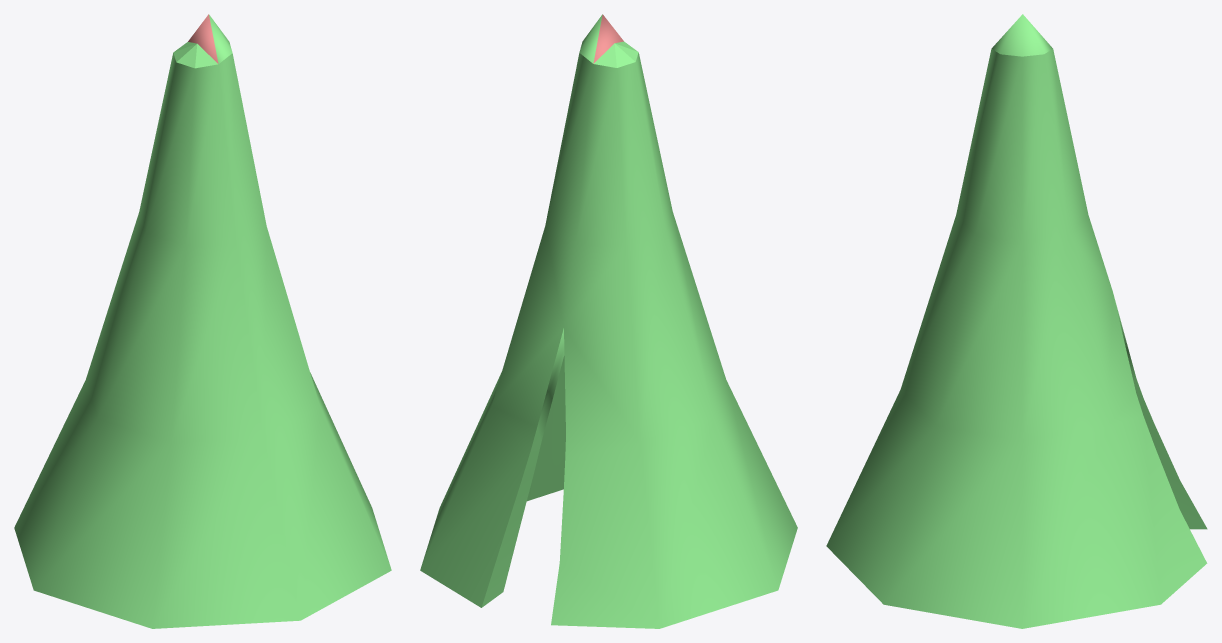
File: PriMT_port_tent01.gltf
The picture shows the model from 3 angles, left to right: view 1: azimuth 30°, elevation 25°; view 2: azimuth 150°, elevation 25°; view 3: azimuth 270°, elevation 25°; orthographic projection.
Parts seen in each view (by area): view 1: PriMT_port_tent01; view 2: PriMT_port_tent01; view 3: PriMT_port_tent01.
Boxes of the visible parts, x1,y1,x2,y2 form: PriMT_port_tent01: [14, 14, 391, 628]; PriMT_port_tent01: [420, 14, 797, 628]; PriMT_port_tent01: [826, 14, 1207, 628].
Bounding box in the file's own units: 2.4 × 3.61 × 2.33.
